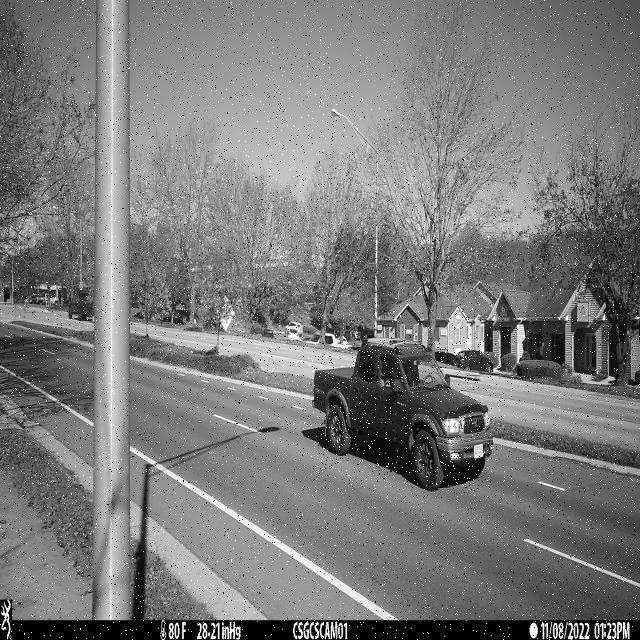Pickup: (312, 337, 494, 493)
